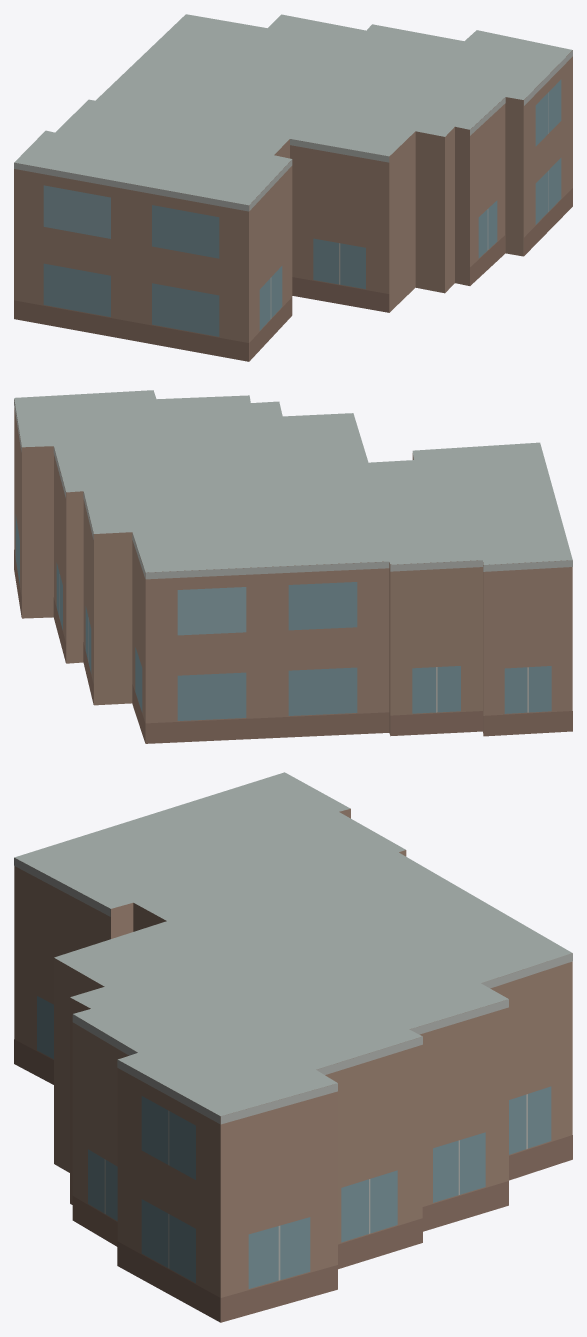
The model's file is survey-upis-32884632.glb.
3 views of the same model, one above another, from view 1: azimuth 30°, elevation 25°; view 2: azimuth 150°, elevation 25°; view 3: azimuth 270°, elevation 25° (orthographic). The views are drawn at different scales.
Visible parts, largest first — view 1: survey-upis-32884632.tmp; view 2: survey-upis-32884632.tmp; view 3: survey-upis-32884632.tmp.
Part boxes in pixels (x1=…): survey-upis-32884632.tmp: x1=14, y1=14, x2=572, y2=361; survey-upis-32884632.tmp: x1=14, y1=390, x2=572, y2=743; survey-upis-32884632.tmp: x1=14, y1=772, x2=572, y2=1322.
Bounding box in the file's own units: 21.82 × 6.1 × 14.98.
